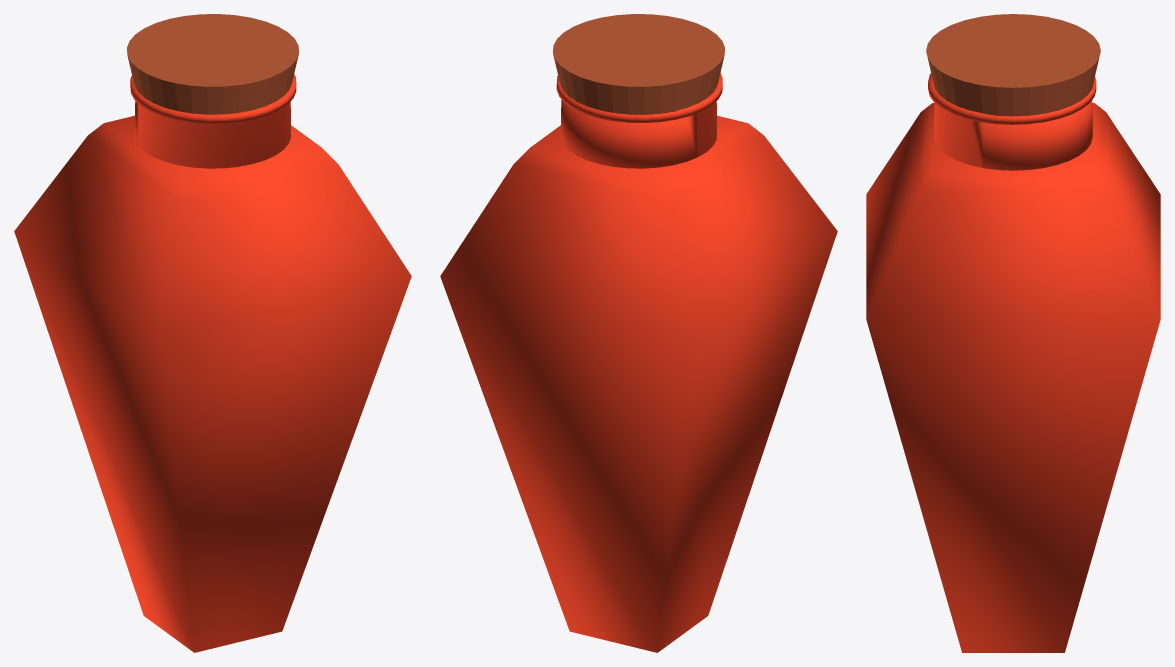
Rendered from newpotion2.fbx.
3 views of the same model, side by side, from view 1: azimuth 30°, elevation 25°; view 2: azimuth 150°, elevation 25°; view 3: azimuth 270°, elevation 25° (orthographic).
Visible parts, largest first — view 1: Цилиндр, Цилиндр.001; view 2: Цилиндр, Цилиндр.001; view 3: Цилиндр, Цилиндр.001.
Boxes of the visible parts, bbox=[...] form: Цилиндр: bbox=[14, 74, 411, 652]; Цилиндр.001: bbox=[127, 14, 298, 114]; Цилиндр: bbox=[440, 73, 837, 652]; Цилиндр.001: bbox=[553, 14, 724, 114]; Цилиндр: bbox=[866, 73, 1160, 652]; Цилиндр.001: bbox=[926, 14, 1100, 115].
Bounding box in the file's own units: 574 × 1247 × 574.
